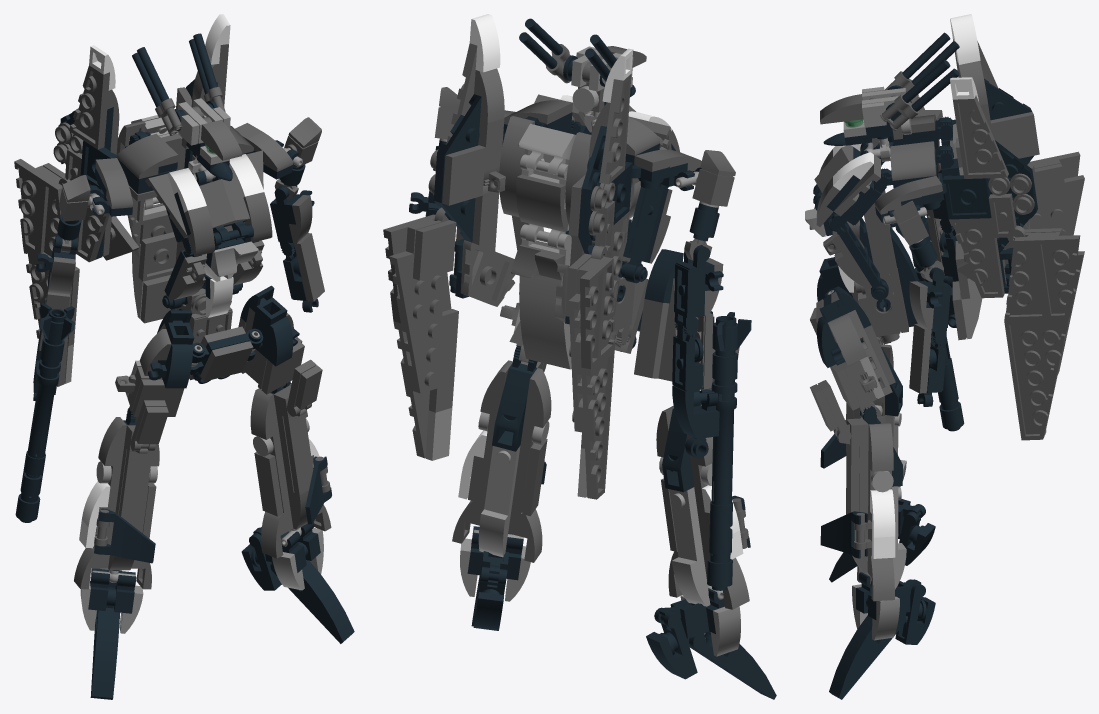
The model's file is vf-25-battroid.dae.
3 views of the same model, side by side, from view 1: azimuth 30°, elevation 25°; view 2: azimuth 150°, elevation 25°; view 3: azimuth 270°, elevation 25° (orthographic). The views are drawn at different scales.
Bounding box in the file's own units: 305 × 253 × 591.
